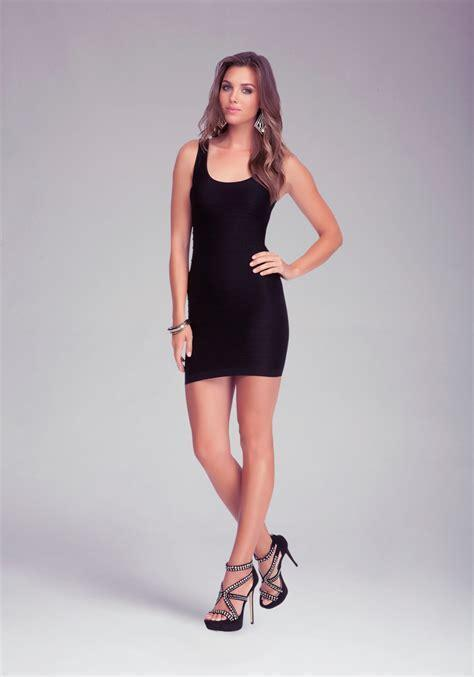dress: (184, 136, 289, 382)
